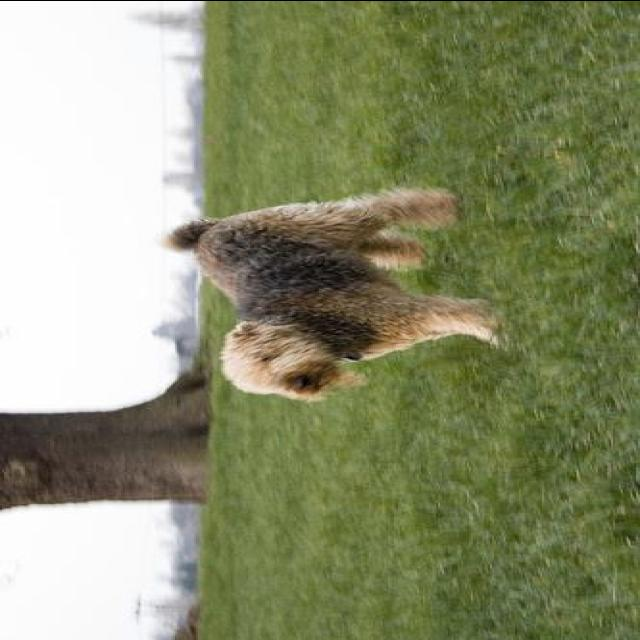airedale: (160, 182, 508, 400)
